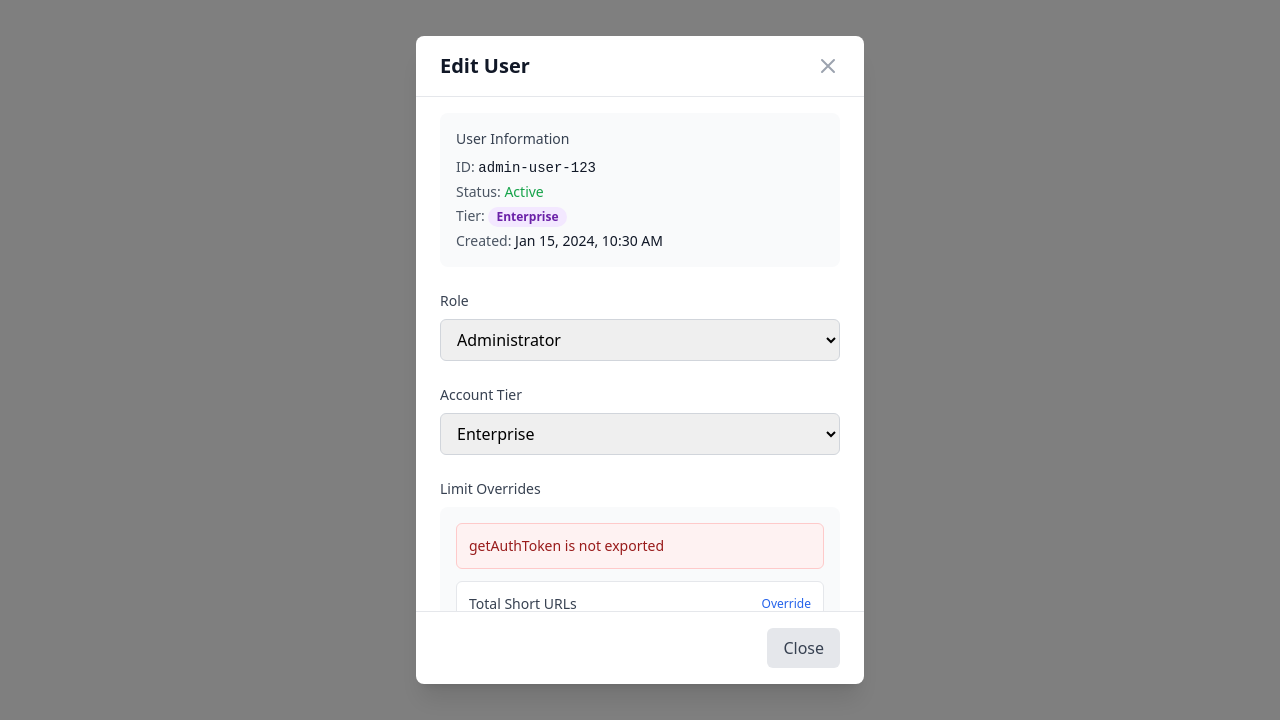
Test: UserEditModal › Self-protection UI elements › should display error message if self-demotion attempted via API
// Change role to trigger the update button
Select "Account Owner" in the dropdown labelled "Role" at (640, 340), box [440, 319, 840, 361]
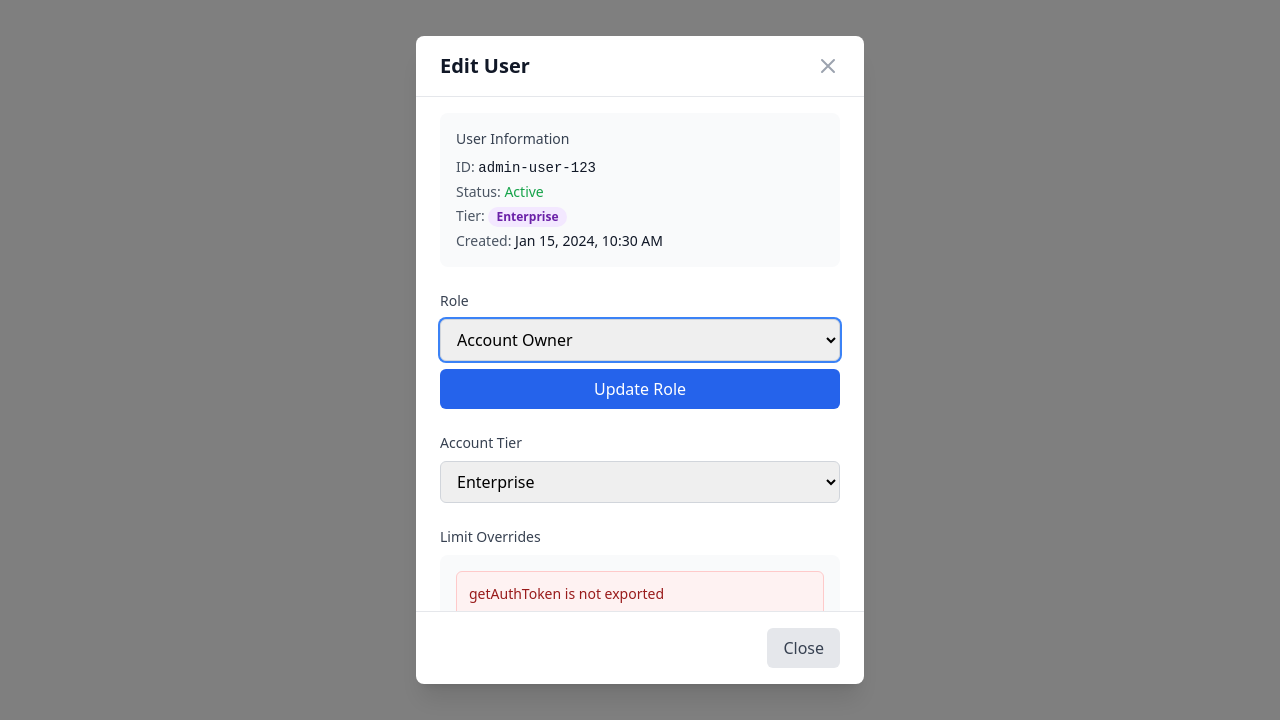
// Click the button - error will be caught and displayed by the component
Click the button "Update Role".
click(640, 389)  # box [440, 369, 840, 409]
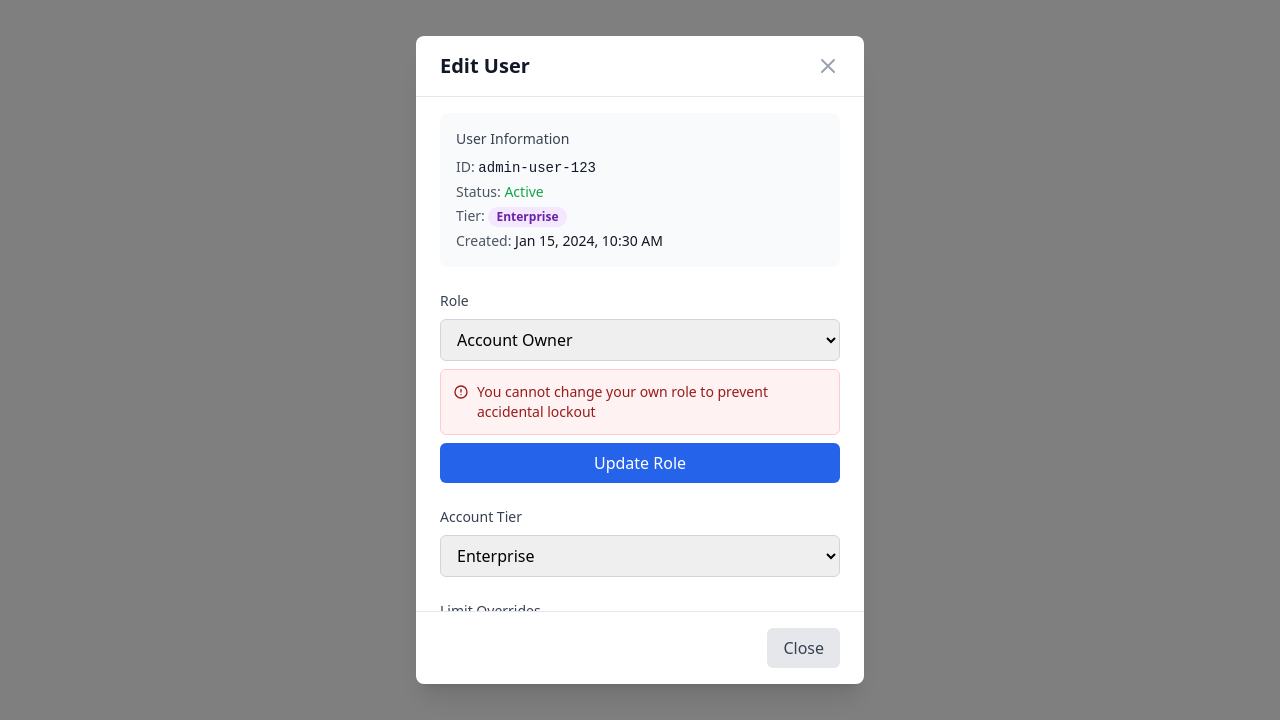
Expected: the text "You cannot change your own role to prevent accidental lockout" is shown, [477, 382, 768, 421]
